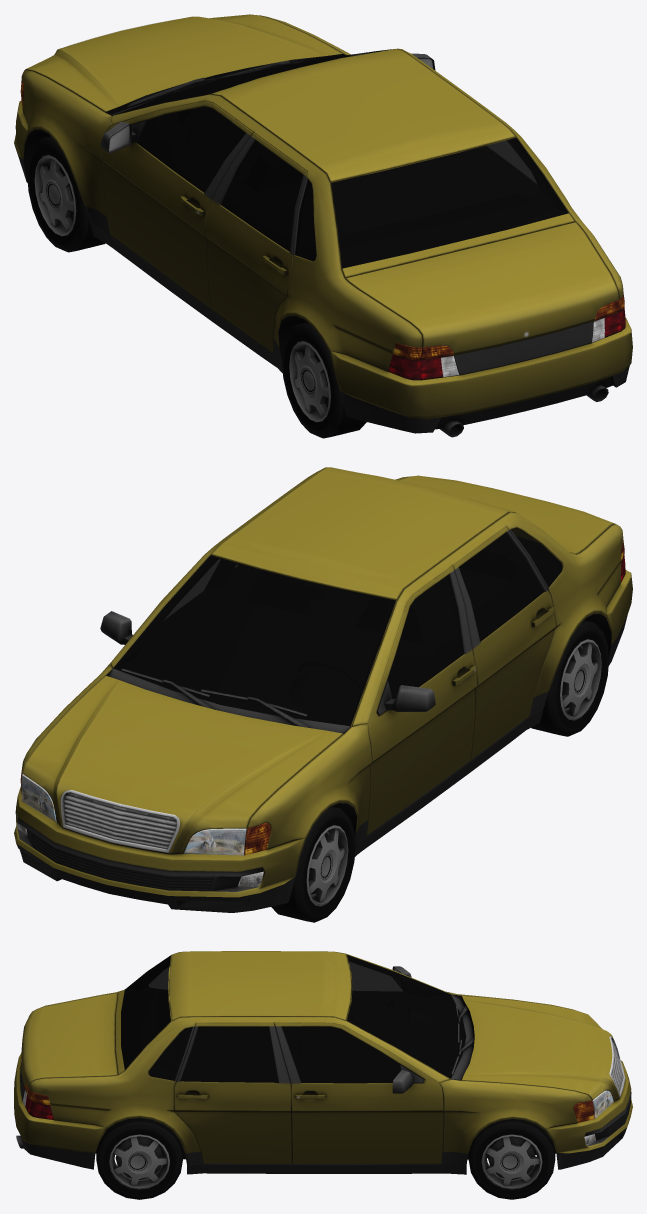
Rendered from sedan.glb.
3 renders of one model, top to bottom at view 1: azimuth 30°, elevation 25°; view 2: azimuth 150°, elevation 25°; view 3: azimuth 270°, elevation 25°, orthographic. The views are drawn at different scales.
Visible parts, largest first — view 1: Body, Wheel_RL, Wheel_FL; view 2: Body, Wheel_FL, Wheel_RL; view 3: Body, Wheel_RR, Wheel_FR.
Part boxes in pixels (x1,y1,x2,y2): Body: (14,14,632,437); Wheel_RL: (282,322,366,438); Wheel_FL: (27,136,105,252); Body: (14,467,632,912); Wheel_FL: (271,806,355,922); Wheel_RL: (531,620,608,736); Body: (14,951,632,1174); Wheel_RR: (96,1118,182,1199); Wheel_FR: (468,1119,555,1199).
Size of the model in its own units: 1.94 by 1.34 by 4.36.
Materials: 4 (3 with a texture image).
